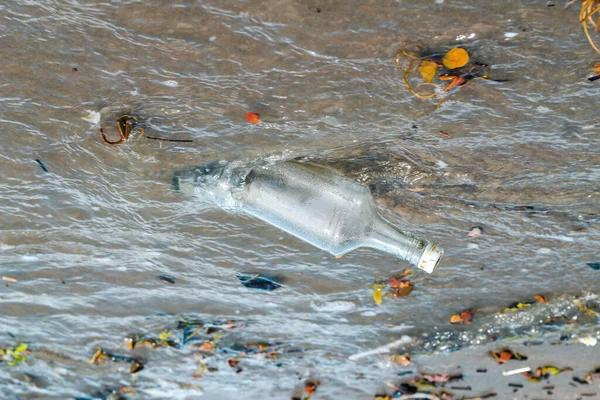Glass: (225, 162, 447, 279)
